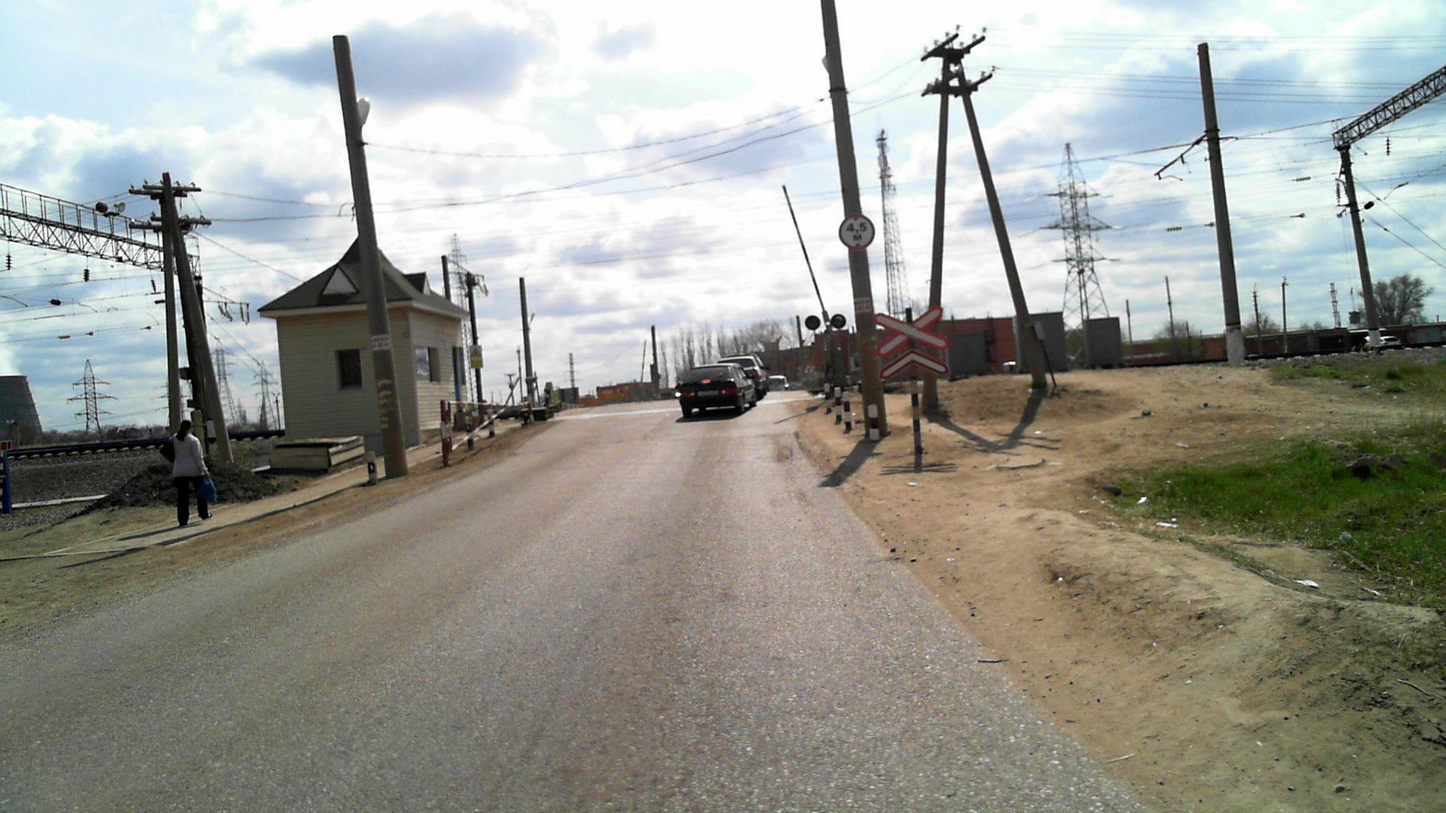road_sign: (838, 213, 876, 250)
